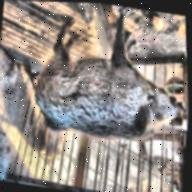boar: (12, 1, 190, 154)
